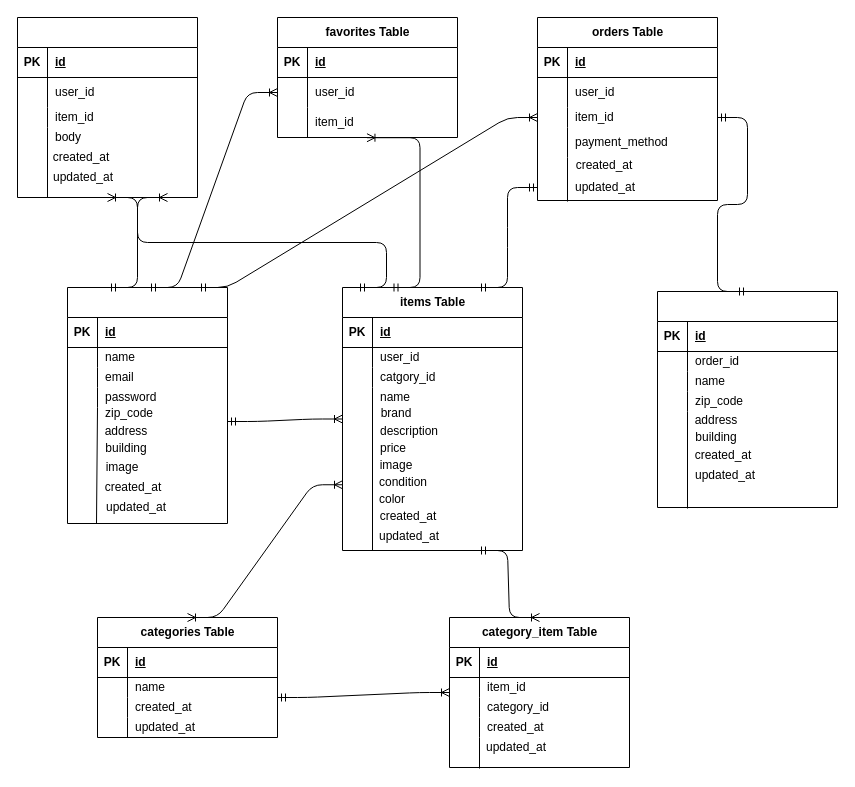
Some shapes in this 855 by 787 pixel diagram are drawn without their labels. The shapes that lost their labels are listed below. From the top down, each one's box as (x1, y1, x2, y2) in pixels, then its label:
(16, 16, 198, 198): messages Table
(66, 286, 228, 524): users Table
(656, 290, 838, 508): shiipings Table
